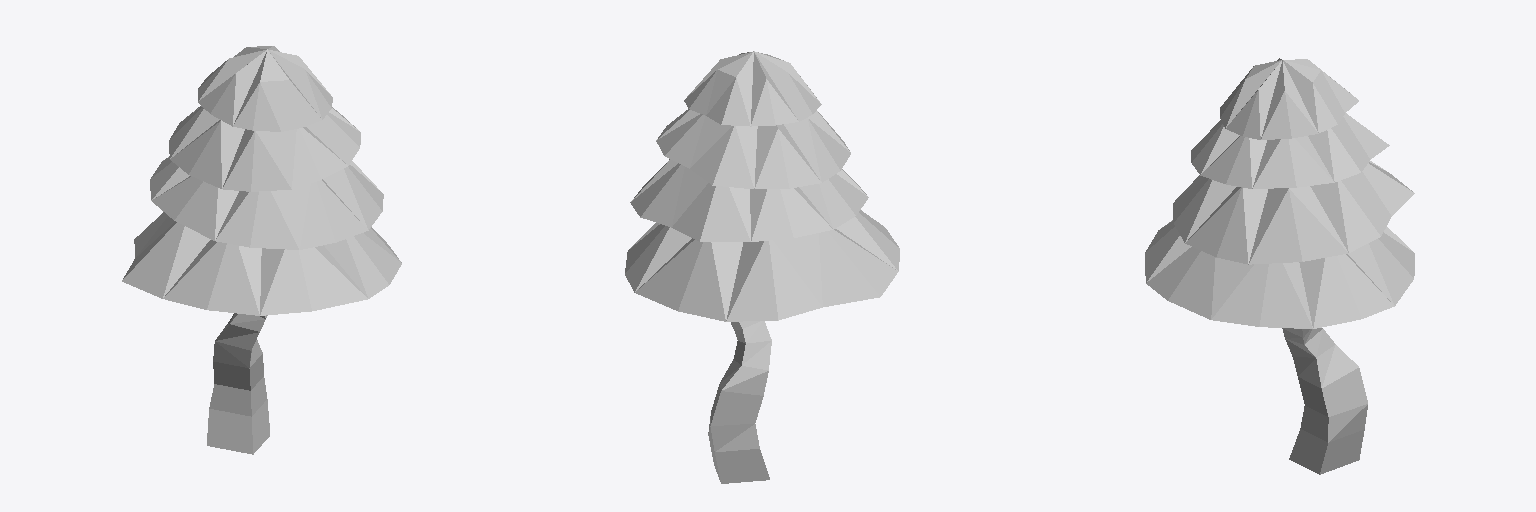
File: Machmaker_environmetnt_TREE.obj
The picture shows the model from 3 angles: view 1: azimuth 30°, elevation 25°; view 2: azimuth 150°, elevation 25°; view 3: azimuth 270°, elevation 25°; orthographic projection.
Visible parts, largest first — view 1: group4, group5, group6, group7, Machmaker_environmetnt_TREE:boomstam1; view 2: group4, group5, group6, group7, Machmaker_environmetnt_TREE:boomstam1; view 3: group4, group5, group6, Machmaker_environmetnt_TREE:boomstam1, group7.
Part boxes in pixels (x1,y1,x2,y2): group4: (122,212,401,315); group5: (150,156,383,249); group6: (169,106,360,191); group7: (198,46,332,131); Machmaker_environmetnt_TREE:boomstam1: (207,313,269,454); group4: (625,210,899,321); group5: (630,159,868,241); group6: (656,109,850,188); group7: (684,51,821,126); Machmaker_environmetnt_TREE:boomstam1: (708,321,771,483); group4: (1145,220,1414,328); group5: (1173,161,1414,264); group6: (1191,113,1389,188); Machmaker_environmetnt_TREE:boomstam1: (1282,328,1367,474); group7: (1220,58,1358,139).
Bounding box in the file's own units: 7.63 × 11.94 × 7.24.